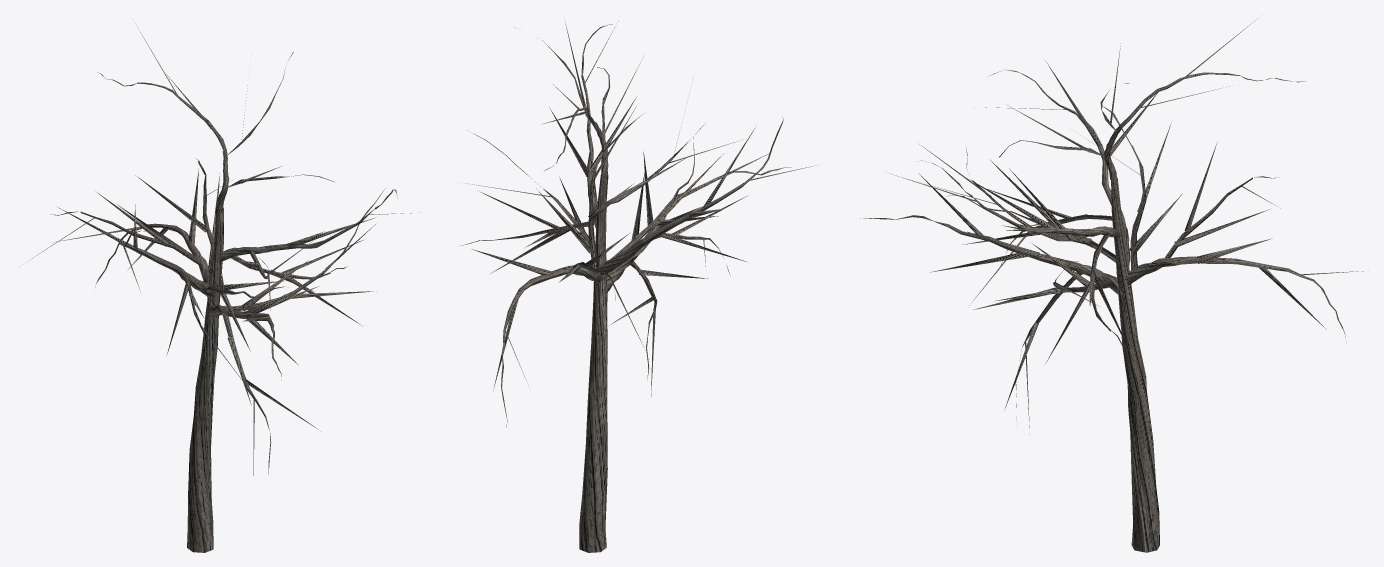
File: muerto_joven.glb
The picture shows the model from 3 angles, left to right: view 1: azimuth 30°, elevation 25°; view 2: azimuth 150°, elevation 25°; view 3: azimuth 270°, elevation 25°; orthographic projection. The views are drawn at different scales.
Visible parts, largest first — view 1: muerto_joven_ramas; view 2: muerto_joven_ramas; view 3: muerto_joven_ramas.
Part boxes in pixels (bbox=[...]): muerto_joven_ramas: bbox=[29, 23, 419, 552]; muerto_joven_ramas: bbox=[459, 20, 817, 552]; muerto_joven_ramas: bbox=[860, 17, 1368, 552].
Bounding box in the file's own units: 2.31 × 3.68 × 3.27.
Materials: 1 (1 with a texture image).
